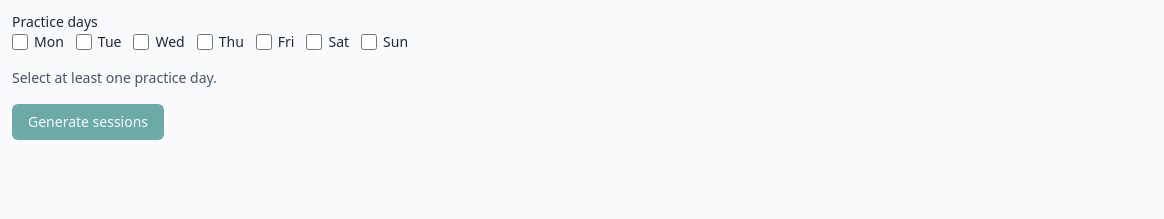
Test: SessionGenerationForm › shows an error message when generation fails
The image size is (1164, 219).
Click the checkbox labelled "Mon".
click(20, 42)  # box [12, 34, 28, 50]
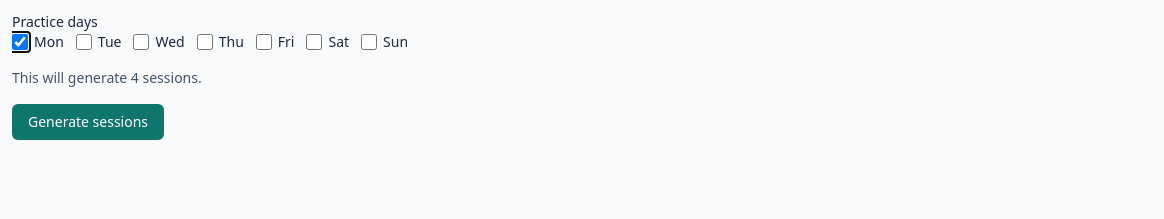
Click the button "Generate sessions".
click(88, 122)  # box [12, 104, 164, 140]
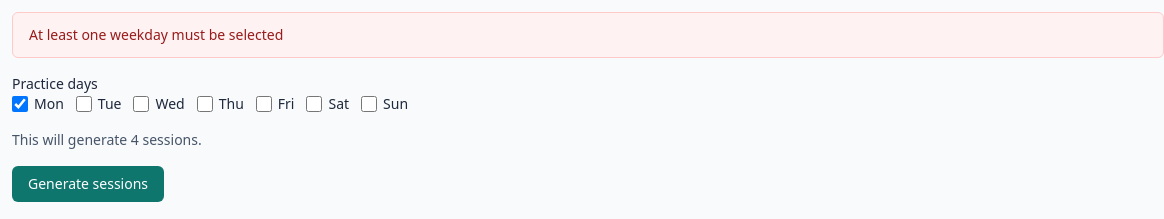
Expected: the message reads "At least one weekday must be selected", [29, 25, 283, 44]
